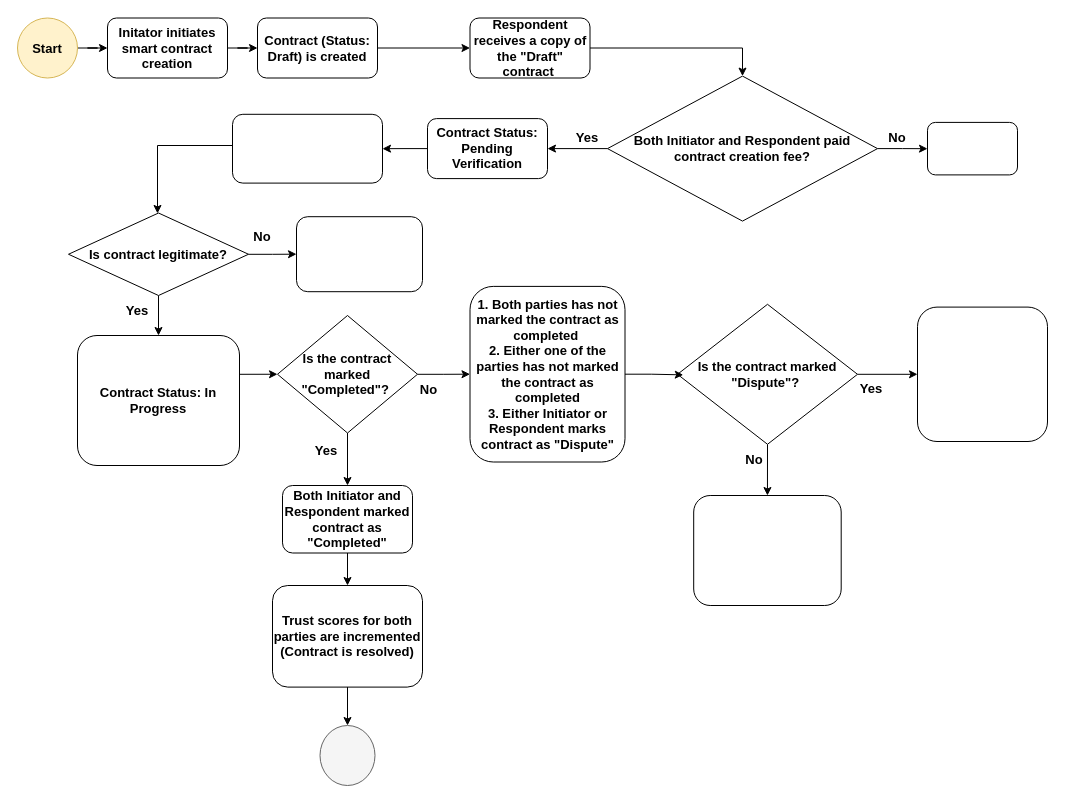
Some shapes in this 1065 by 803 pixel diagram are drawn without their labels. Here are the shapes that lost their labels. From the top down, the centre of each, then its label:
the point at 307,148: Random users from the community are allocated to verify contract legitimacy
the point at 972,148: Contract cannot be created
the point at 359,254: Contract Status: Void
the point at 982,374: Dispute Resolution Mechanism
the point at 767,550: Wait for both parties to update completion status (Contract is unresolved)
the point at 347,755: End
